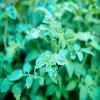Tomato leaf: (33, 52, 51, 72), (47, 59, 59, 86), (51, 53, 68, 67)
